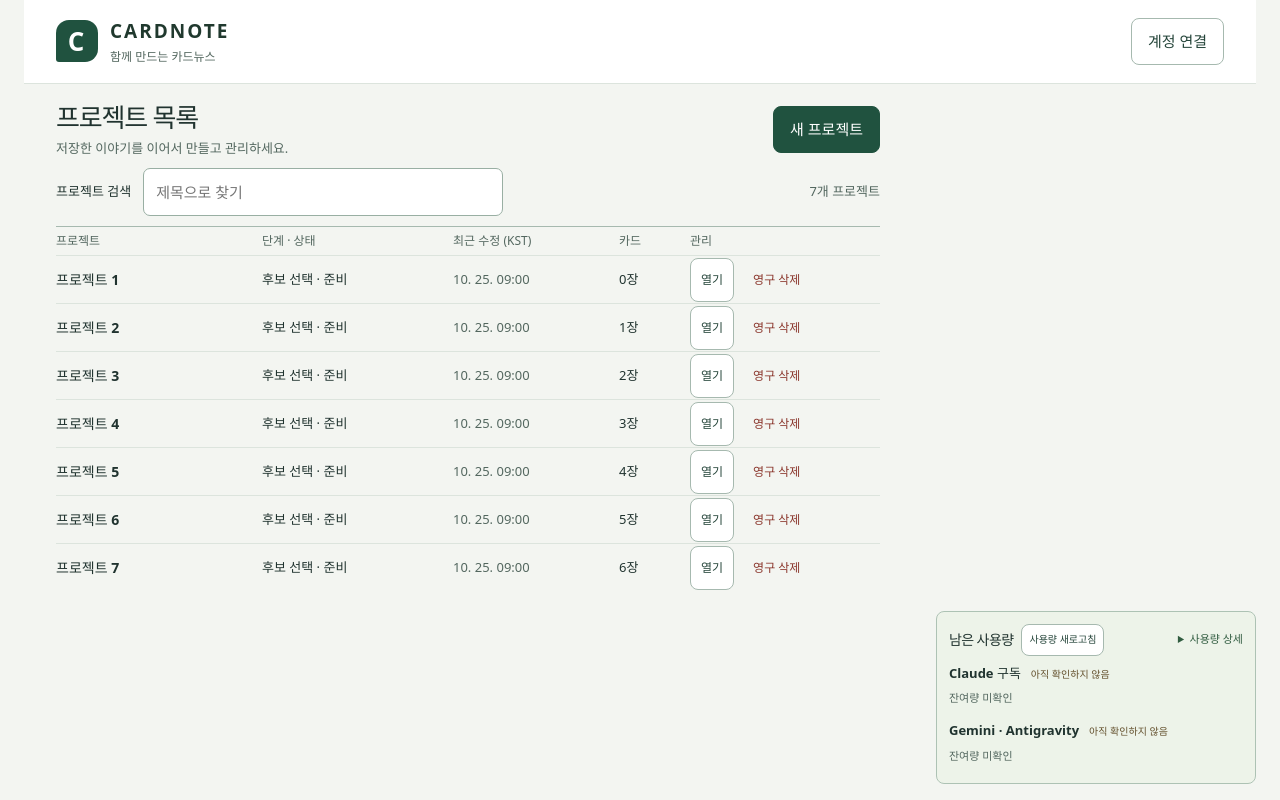
it: 403 거절은 행을 유지하고 재확인 없이 성공 표시하지 않는다
Click the button "영구 삭제" in the row of "프로젝트 1" at [777, 280], box top-left (742, 258), bottom-right (811, 302)
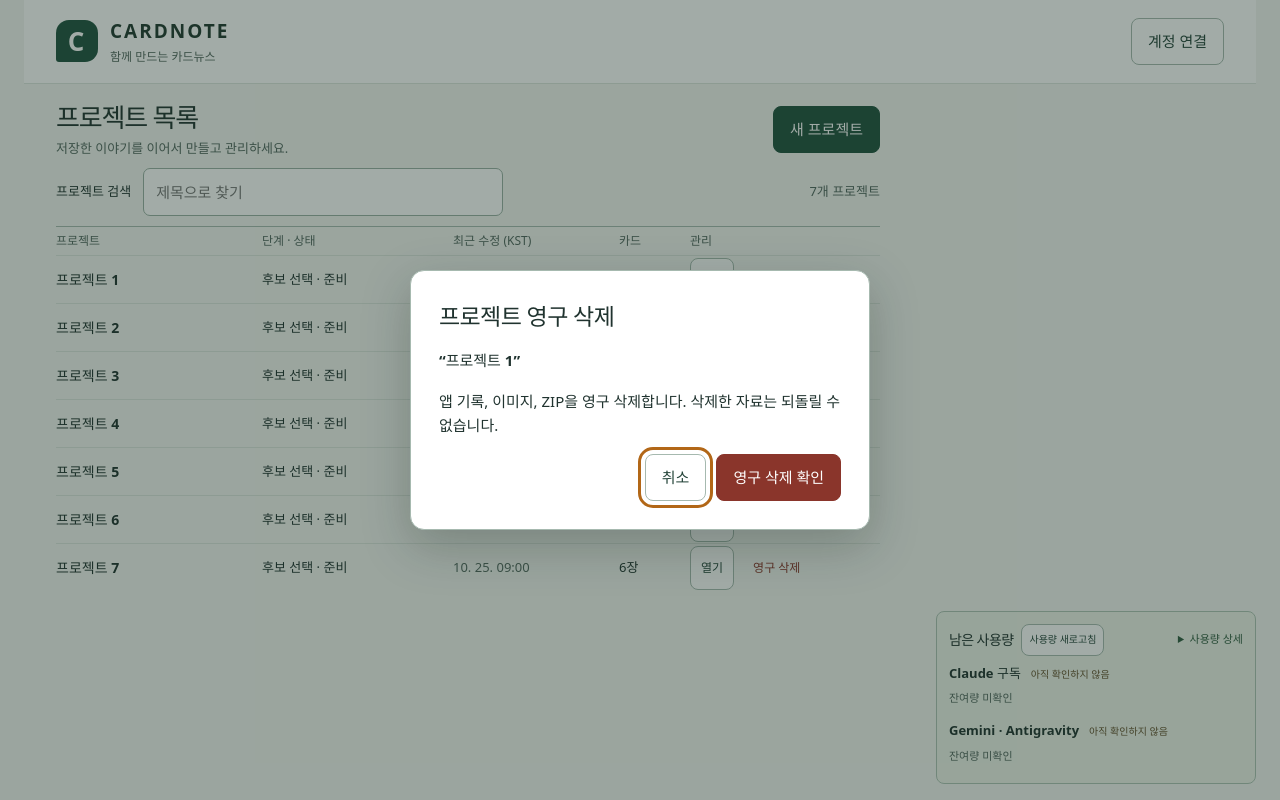
Click the button "영구 삭제 확인" at [779, 477], box top-left (716, 454), bottom-right (841, 501)
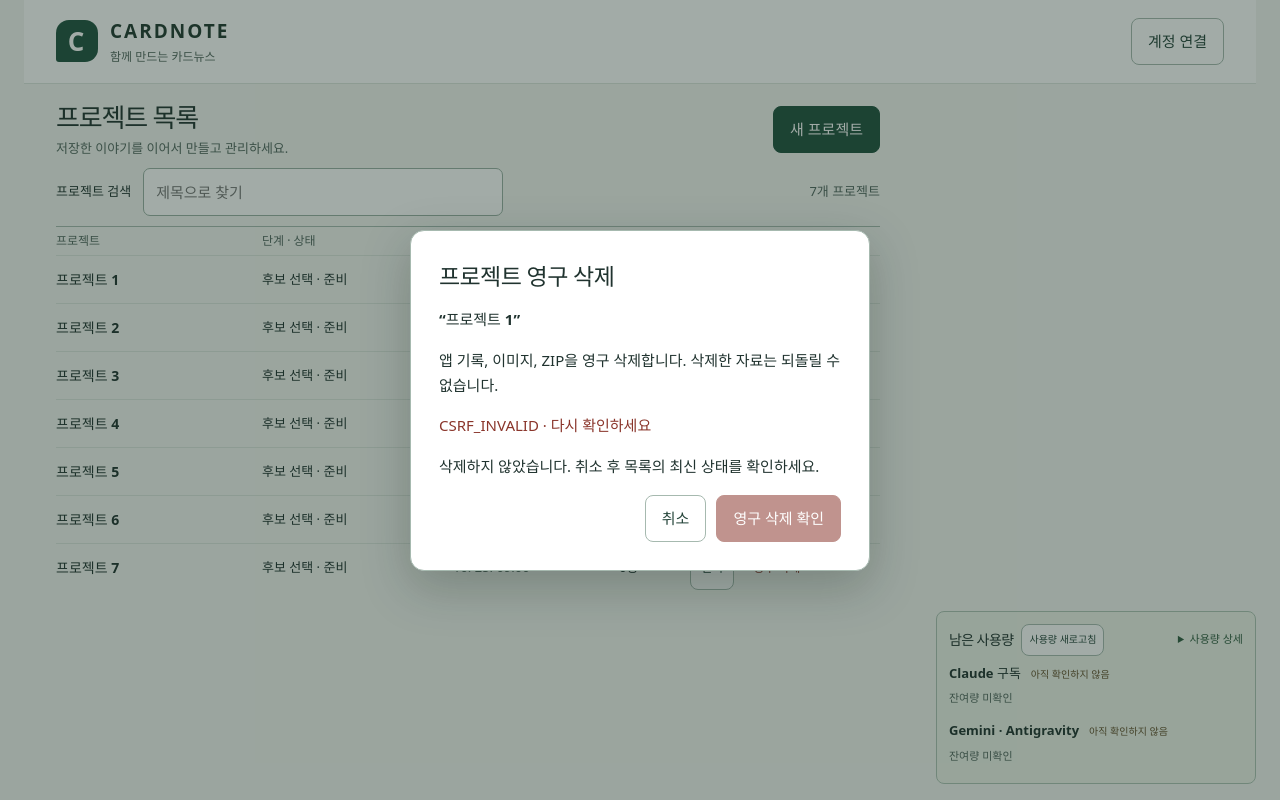
Expected: the row "프로젝트 1 후보 선택 · 준비 10. 25. 09:00 0장 열기 영구 삭제" is shown, top-left (56, 255), bottom-right (880, 303)
Expected: the text "삭제하지 않았습니다. 취소 후 목록의 최신 상태를 확인하세요." is shown, top-left (439, 454), bottom-right (841, 479)
Expected: the button "영구 삭제 확인" is disabled, top-left (716, 495), bottom-right (841, 542)
